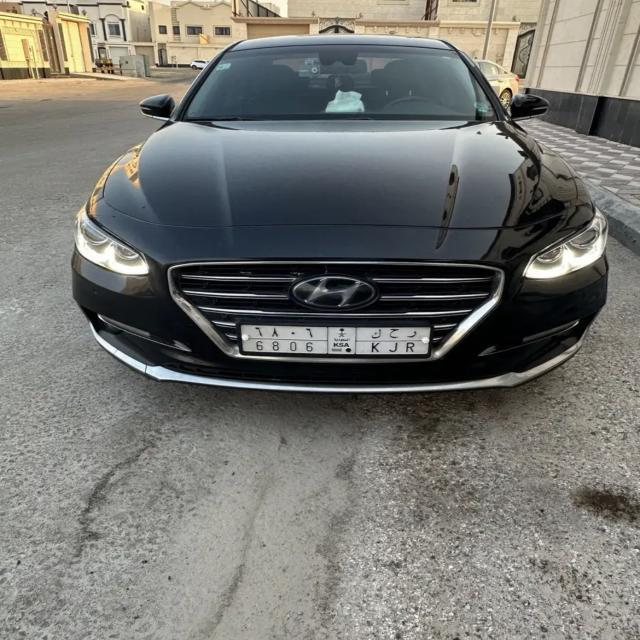license_plate: (237, 321, 438, 363)
